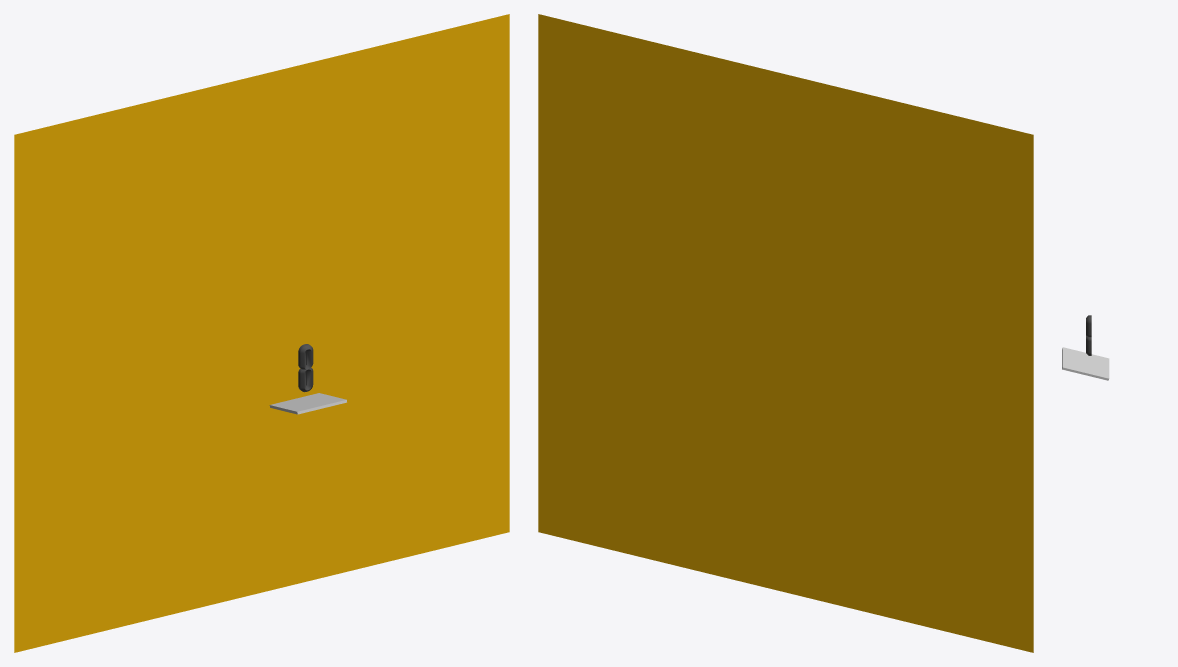
File: andy_main.dae
3 renders of one model, left to right at view 1: azimuth 30°, elevation 25°; view 2: azimuth 150°, elevation 25°; view 3: azimuth 270°, elevation 25°, orthographic. The views are drawn at different scales.
Visible parts, largest first — view 1: plane, particle-plane, referenceText; view 2: plane; view 3: particle-plane, referenceText.
Boxes of the visible parts, x1,y1,x2,y2 form: plane: [14, 14, 509, 652]; particle-plane: [269, 393, 346, 414]; referenceText: [298, 344, 313, 392]; plane: [538, 14, 1033, 652]; particle-plane: [1062, 347, 1109, 380]; referenceText: [1086, 315, 1091, 355].
Bounding box in the file's own units: 100 × 100 × 21.15.
